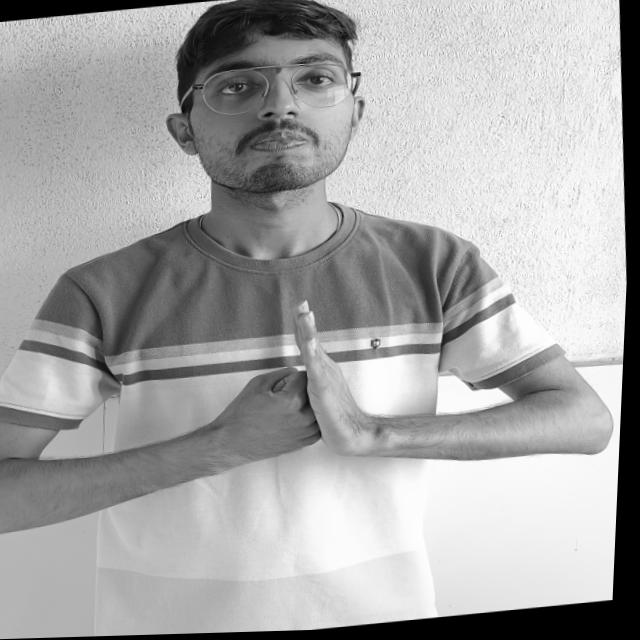Well Done: (144, 281, 483, 499)
